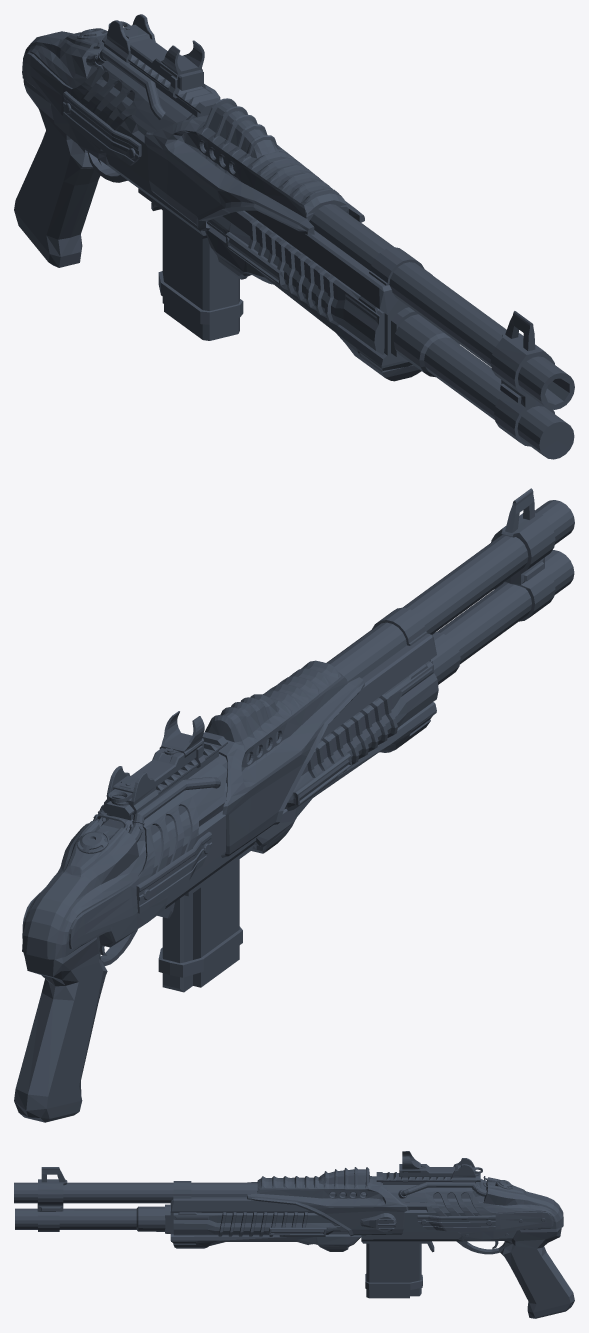
File: spikeshot_original.obj
3 renders of one model, top to bottom at view 1: azimuth 30°, elevation 25°; view 2: azimuth 150°, elevation 25°; view 3: azimuth 270°, elevation 25°, orthographic. The views are drawn at different scales.
Parts seen in each view (by area): view 1: spikeshot_Original; view 2: spikeshot_Original; view 3: spikeshot_Original.
Part boxes in pixels (left/top/right/bottom): spikeshot_Original: left=14, top=14, right=574, bottom=459; spikeshot_Original: left=14, top=488, right=574, bottom=1122; spikeshot_Original: left=14, top=1151, right=574, bottom=1318.
Size of the model in its own units: 7.24 by 22.79 by 71.42.
